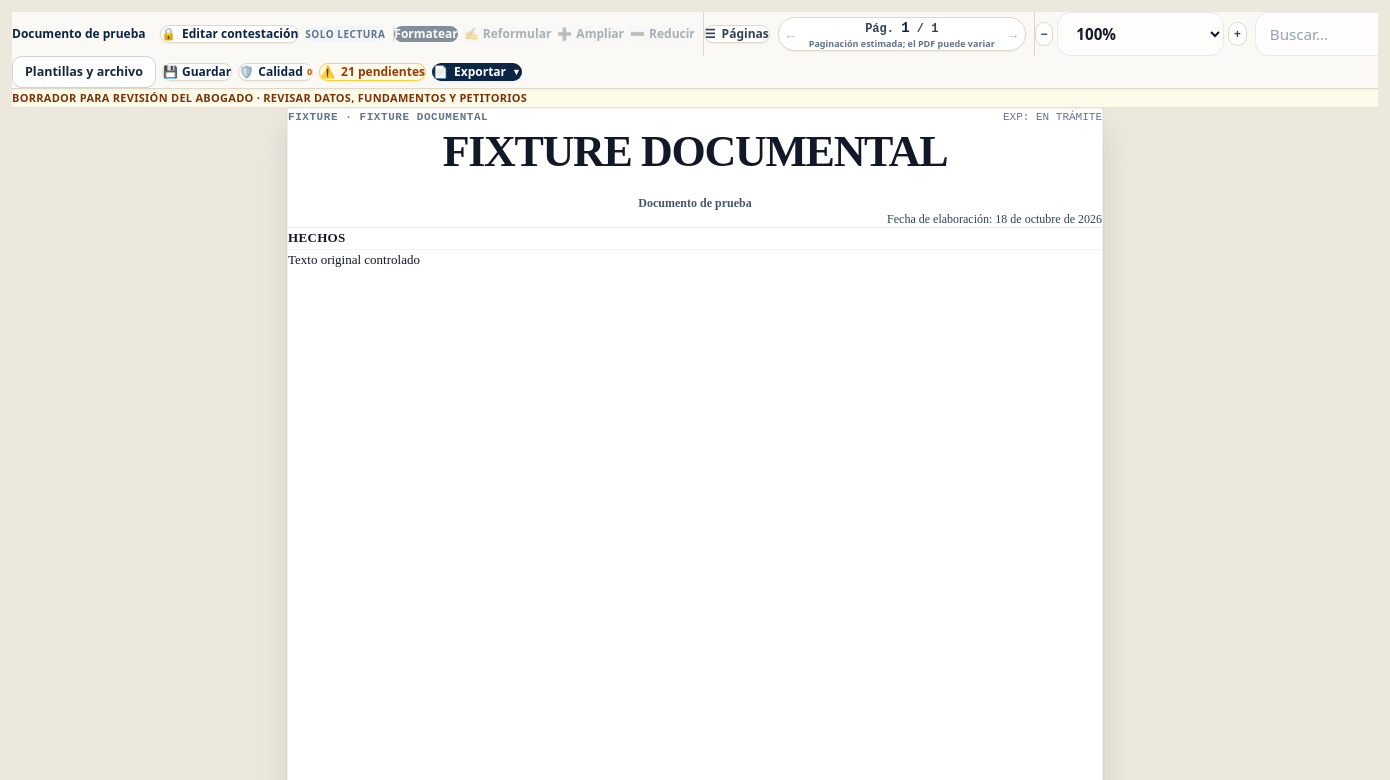
it: never offers FINAL exports for a type with functional evidence while its legal review is pending
The width and height of the screenshot is (1390, 780).
Click the button titled "Elegir exportación de borrador o final". click: [477, 72]
box: [432,63,522,81]
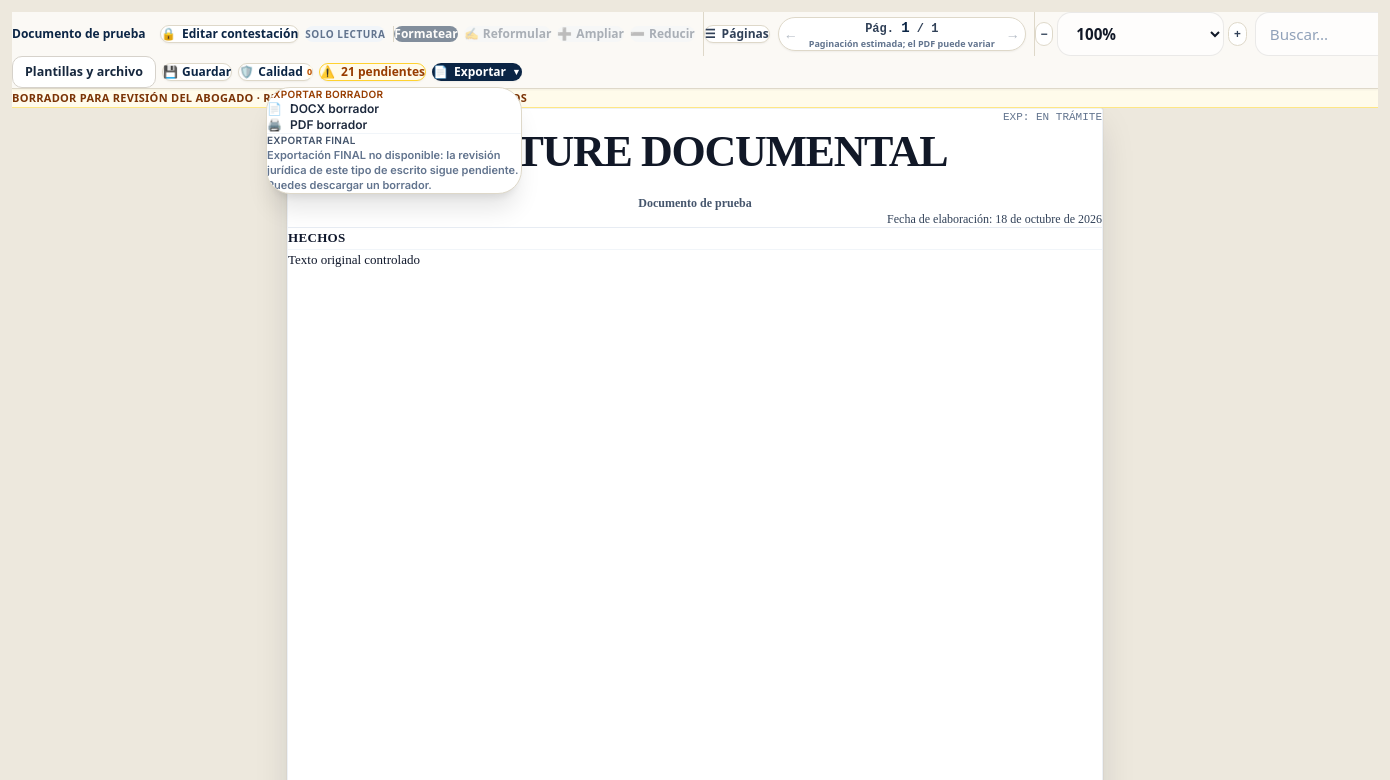
Check: the text "Exportación FINAL no disponible: la revisión jurídica de este tipo de escrito sigue pendiente" is shown, box [267,148,518,192]
Check: the button "📄 DOCX borrador" is shown, box [267,101,521,117]
